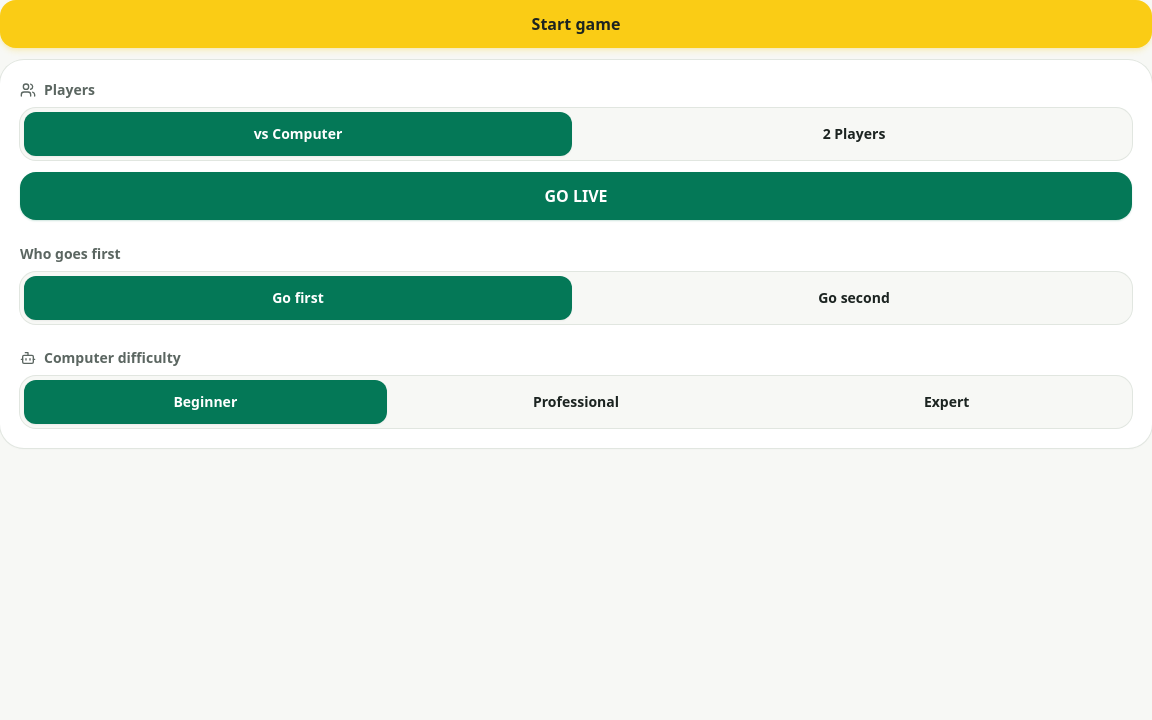
Test: game screens › Noughts and Crosses accepts a move and Restart clears the board
What coordinates should you click on to do the following:
click the radio button labelled "2 Players"
I would click on:
 (854, 134)
Its box is [580,112,1128,156].
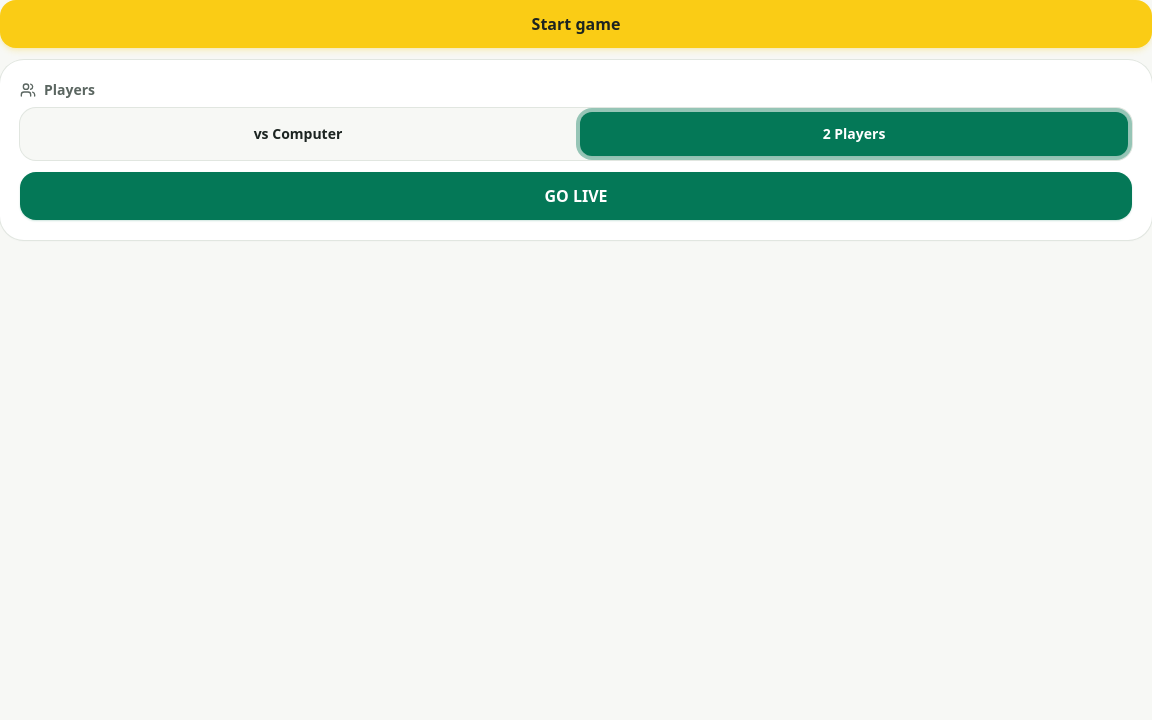
What coordinates should you click on to do the following:
click the button "Start game"
I would click on:
 (576, 24)
Its box is [0,0,1151,48].
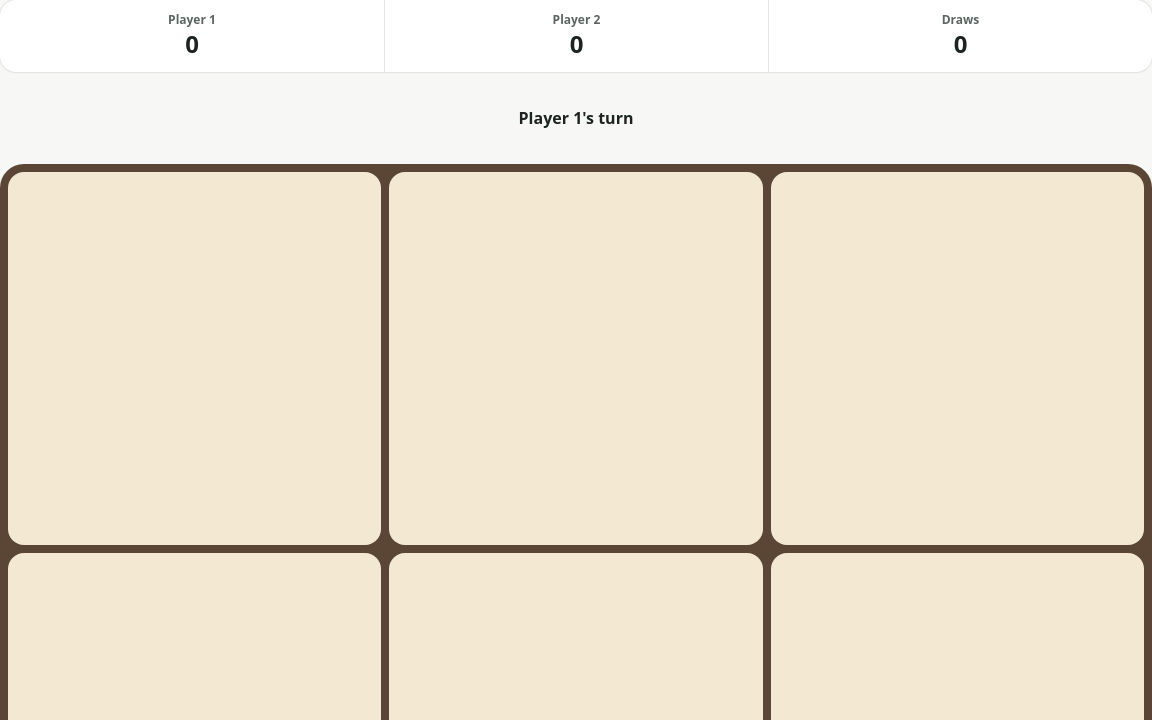
What coordinates should you click on to do the following:
click the button named "Row 1, column 1, empty"
I would click on:
 (195, 359)
Its box is [8,172,381,545].
(page scrolled)
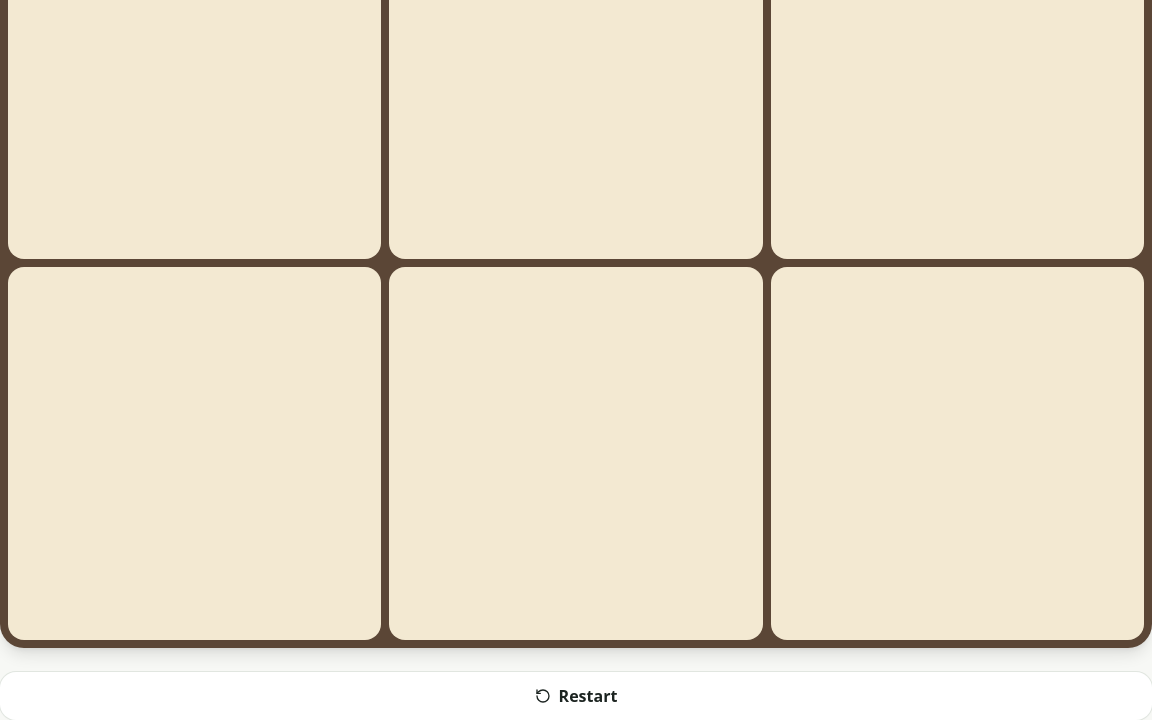
What coordinates should you click on to do the following:
click the button "Restart"
I would click on:
 (576, 696)
Its box is [0,672,1151,719].
(page scrolled)
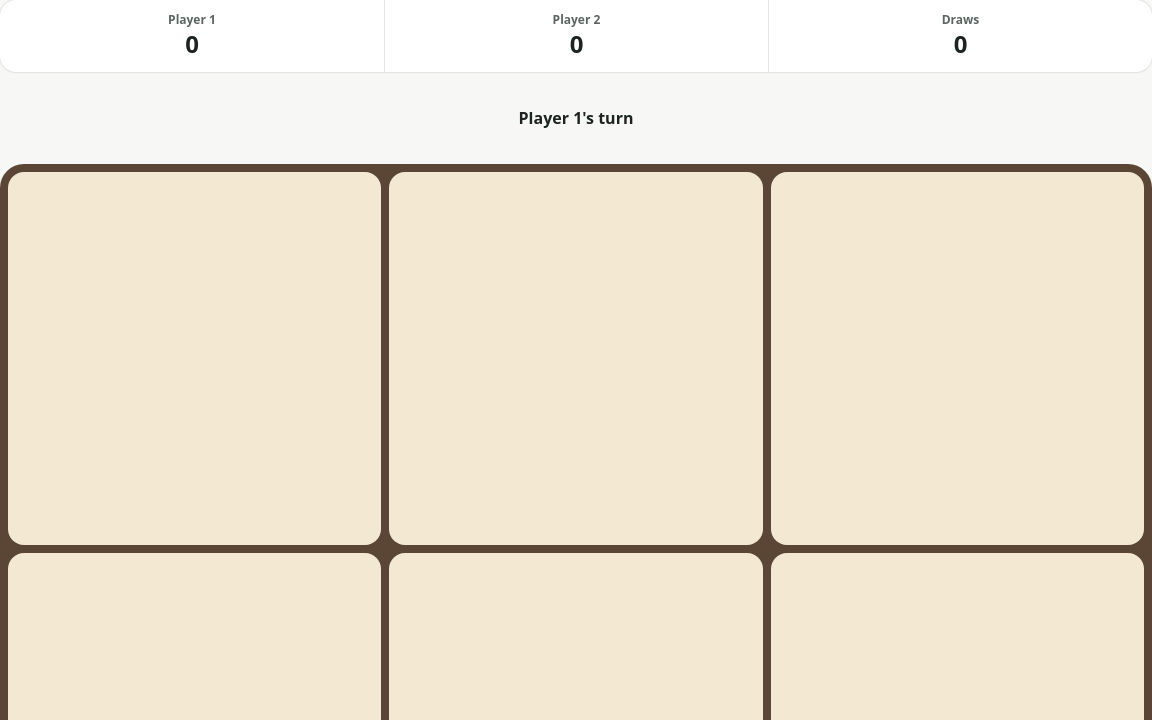
Now the button named "Row 1, column 1, empty" is shown, box [8,172,381,545]
